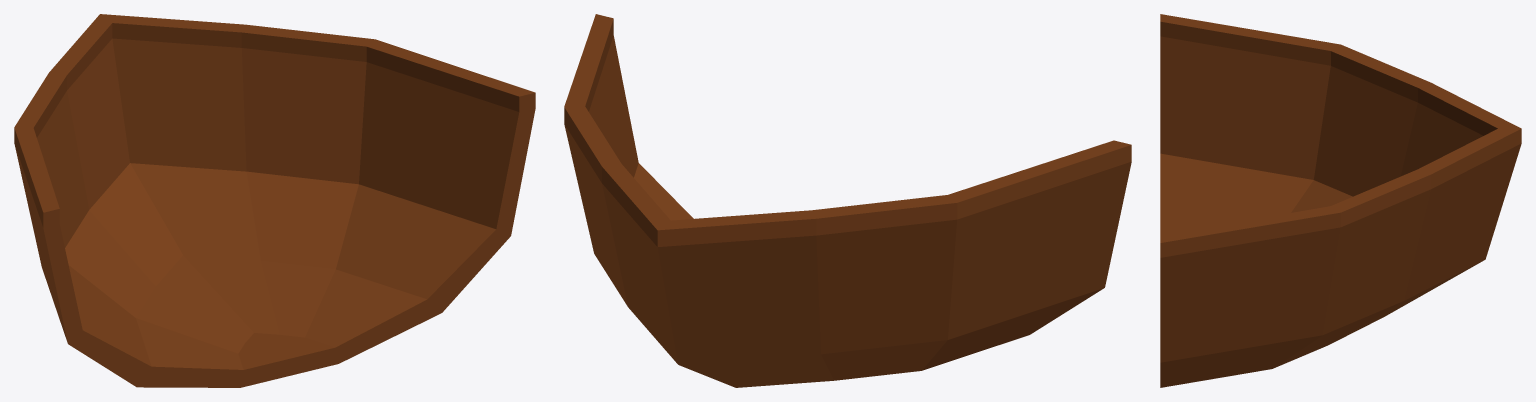
File: BOTTOM_BOW.obj
The picture shows the model from 3 angles, left to right: view 1: azimuth 30°, elevation 25°; view 2: azimuth 150°, elevation 25°; view 3: azimuth 270°, elevation 25°; orthographic projection. The views are drawn at different scales.
Size of the model in its own units: 6 by 2.6 by 4.
